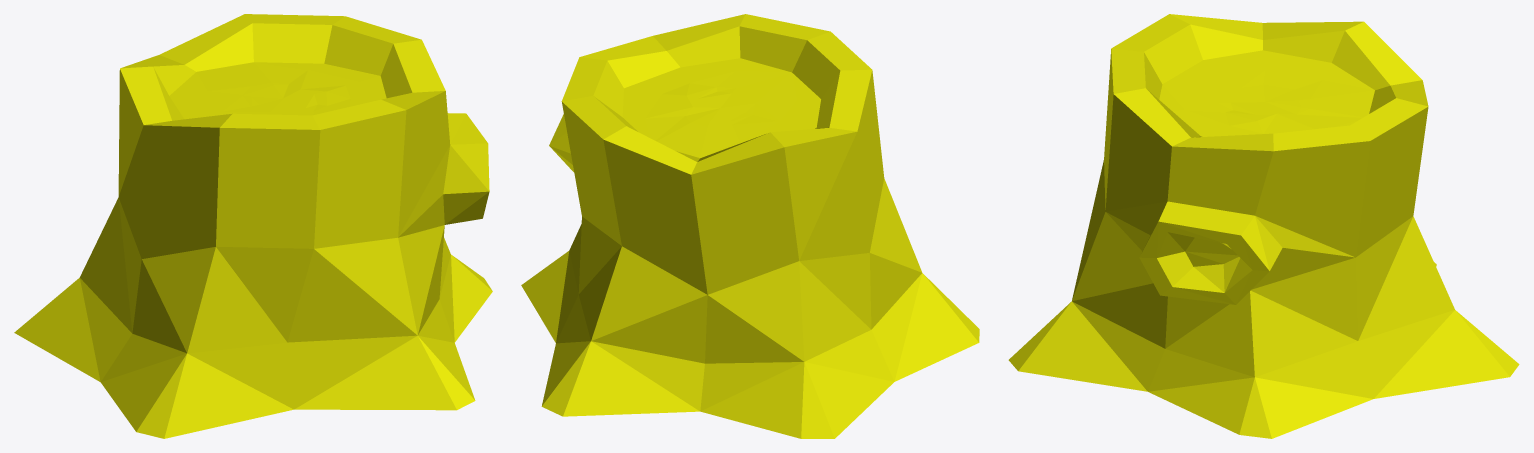
Rendered from SM_Generic_TreeStump_01.glb.
The picture shows the model from 3 angles, left to right: view 1: azimuth 30°, elevation 25°; view 2: azimuth 150°, elevation 25°; view 3: azimuth 270°, elevation 25°; orthographic projection. The views are drawn at different scales.
Visible parts, largest first — view 1: SM_Generic_TreeStump_01; view 2: SM_Generic_TreeStump_01; view 3: SM_Generic_TreeStump_01.
Boxes of the visible parts, bbox=[...] form: SM_Generic_TreeStump_01: bbox=[14, 14, 492, 438]; SM_Generic_TreeStump_01: bbox=[521, 14, 979, 438]; SM_Generic_TreeStump_01: bbox=[1008, 14, 1519, 438].
Size of the model in its own units: 0.7776 by 0.4976 by 0.821.
Materials: 1 (1 with a texture image).
